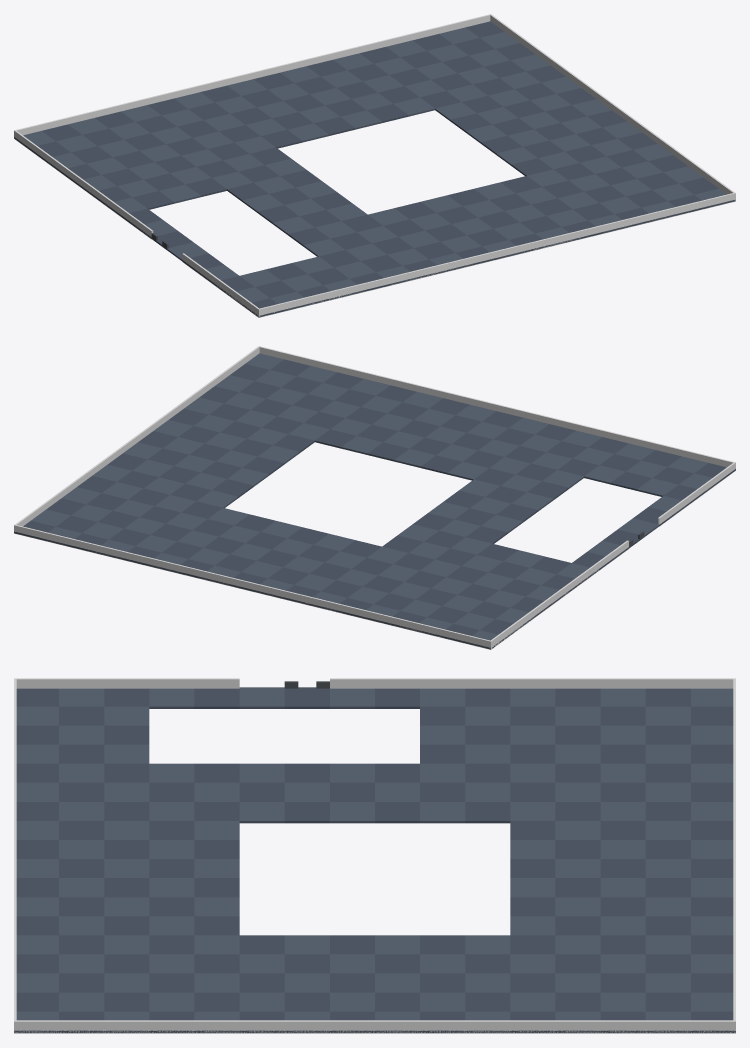
Rendered from godot_100f_native_rooftop_reference.glb.
3 views of the same model, one above another, from view 1: azimuth 30°, elevation 25°; view 2: azimuth 150°, elevation 25°; view 3: azimuth 270°, elevation 25° (orthographic). The views are drawn at different scales.
Parts seen in each view (by area): view 1: no part large enough to name; view 2: no part large enough to name; view 3: FloorLight_070, FloorDark_048, FloorLight_054, FloorDark_068, FloorLight_072, FloorDark_059, FloorLight_063, FloorDark_066, FloorDark_075, FloorLight_082, FloorDark_057, FloorLight_061 (+236 smaller).
Part boxes in pixels (x1,y1,x2,y2): FloorLight_070: (239,687,284,708); FloorDark_048: (465,802,510,823); FloorLight_054: (420,802,465,823); FloorDark_068: (284,802,329,823); FloorLight_072: (239,802,284,823); FloorDark_059: (375,802,419,823); FloorLight_063: (330,802,374,823); FloorDark_066: (284,687,329,708); FloorDark_075: (194,688,239,708); FloorLight_082: (149,688,194,708); FloorDark_057: (375,688,419,708); FloorLight_061: (330,688,374,708).
Size of the model in its own units: 90 by 1.5 by 80.
